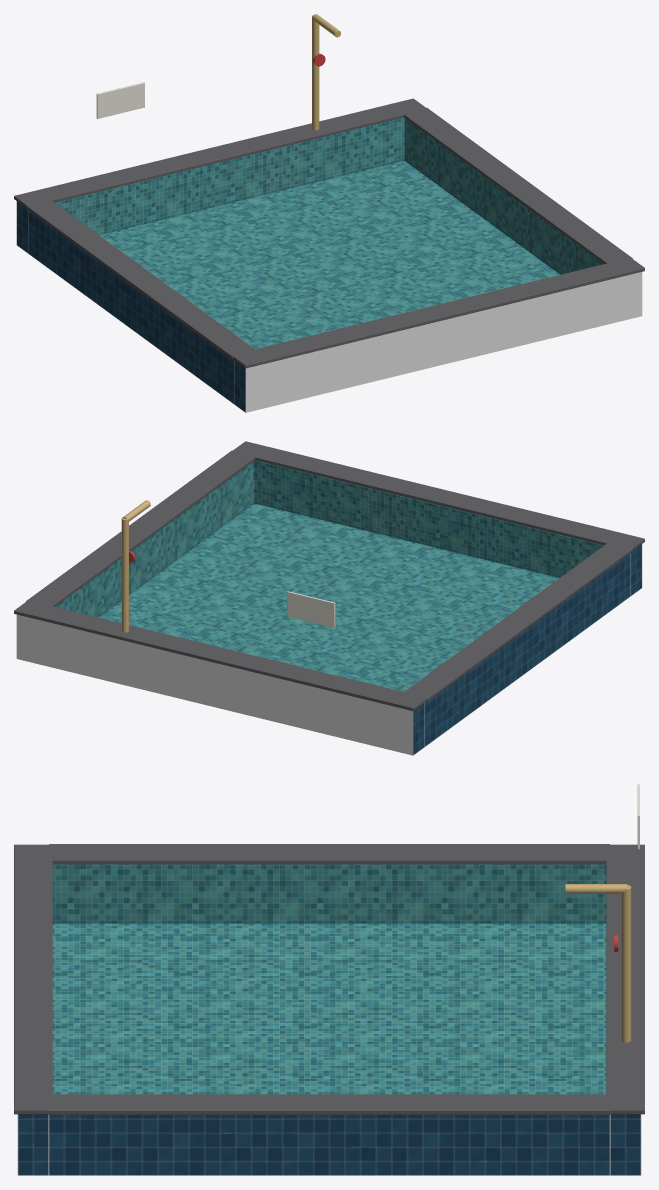
The model's file is hot_tub.mobile.glb.
3 renders of one model, top to bottom at view 1: azimuth 30°, elevation 25°; view 2: azimuth 150°, elevation 25°; view 3: azimuth 270°, elevation 25°, orthographic. The views are drawn at different scales.
Parts seen in each view (by area): view 1: HotTub, COL_Wallz1; view 2: HotTub, COL_Wallz-1; view 3: HotTub, COL_Wallx1.
Boxes of the visible parts, x1,y1,x2,y2 form: HotTub: (14, 14, 644, 412); COL_Wallz1: (234, 272, 642, 412); HotTub: (14, 441, 644, 754); COL_Wallz-1: (16, 614, 424, 755); HotTub: (14, 784, 644, 1175); COL_Wallx1: (49, 1115, 609, 1175).
Size of the model in its own units: 5.06 by 1.97 by 5.06.
Materials: 6 (2 with a texture image).
